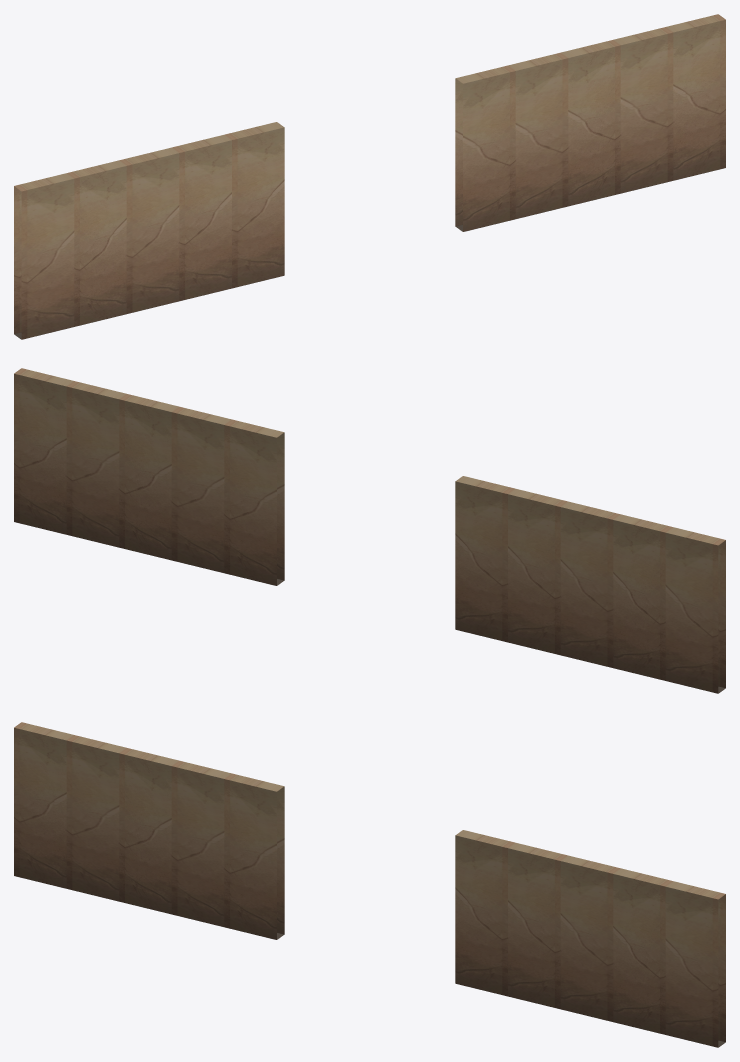
File: Front_Wall_04.glb
The picture shows the model from 3 angles, top to bottom: view 1: azimuth 30°, elevation 25°; view 2: azimuth 150°, elevation 25°; view 3: azimuth 330°, elevation 25°; orthographic projection.
Parts seen in each view (by area): view 1: Front_Wall_04; view 2: Front_Wall_04; view 3: Front_Wall_04.
Part boxes in pixels (bbox=[...]): Front_Wall_04: bbox=[14, 14, 725, 339]; Front_Wall_04: bbox=[14, 368, 725, 693]; Front_Wall_04: bbox=[14, 722, 725, 1047].
Bounding box in the file's own units: 130 × 26.23 × 2.43.
Materials: 1 (1 with a texture image).
